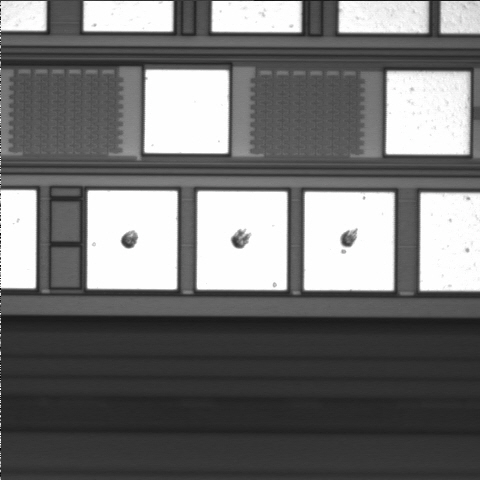pad: (197, 191, 287, 290), (87, 191, 177, 289), (304, 192, 394, 290), (144, 70, 229, 153), (386, 72, 469, 154)
